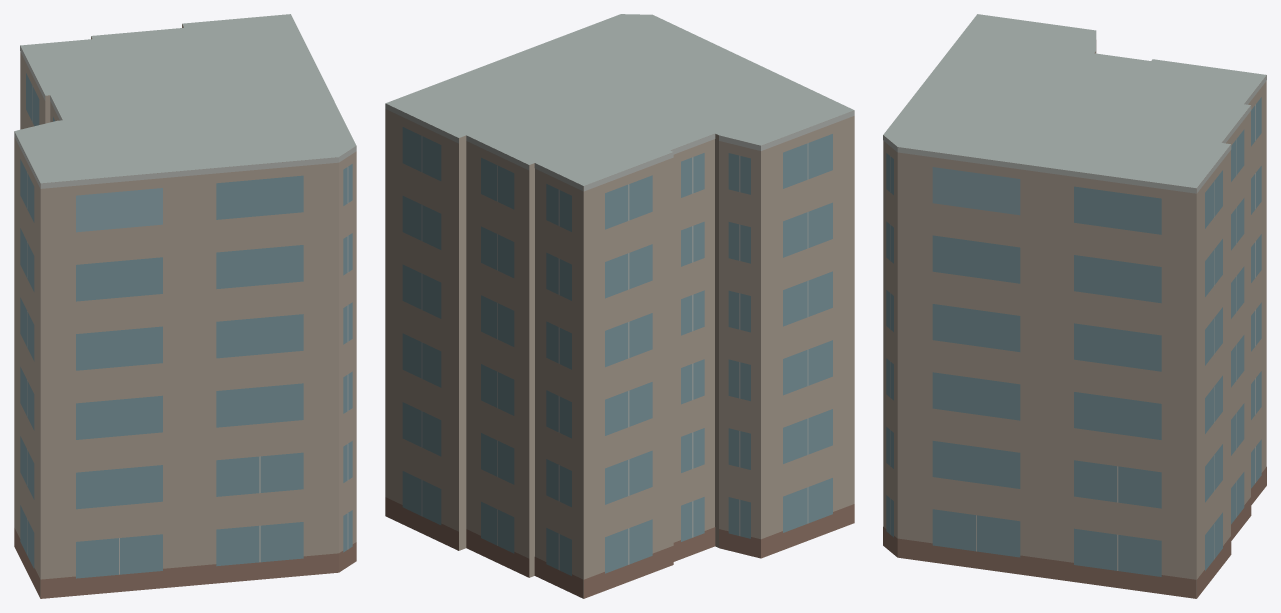
Rendered from survey-upis-32678261.glb.
The picture shows the model from 3 angles, left to right: view 1: azimuth 30°, elevation 25°; view 2: azimuth 150°, elevation 25°; view 3: azimuth 270°, elevation 25°; orthographic projection.
Parts seen in each view (by area): view 1: survey-upis-32678261.tmp; view 2: survey-upis-32678261.tmp; view 3: survey-upis-32678261.tmp.
Part boxes in pixels (x1,y1,x2,y2): survey-upis-32678261.tmp: (14, 14, 356, 598); survey-upis-32678261.tmp: (385, 14, 854, 598); survey-upis-32678261.tmp: (883, 14, 1266, 598).
Size of the model in its own units: 16.66 by 18.3 by 15.51.
